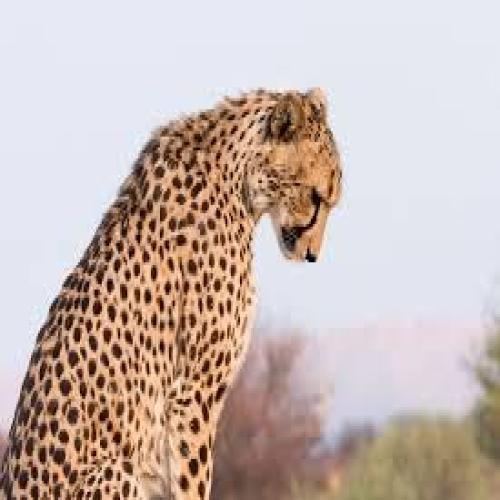cheetah-endangered: (0, 79, 340, 500)
